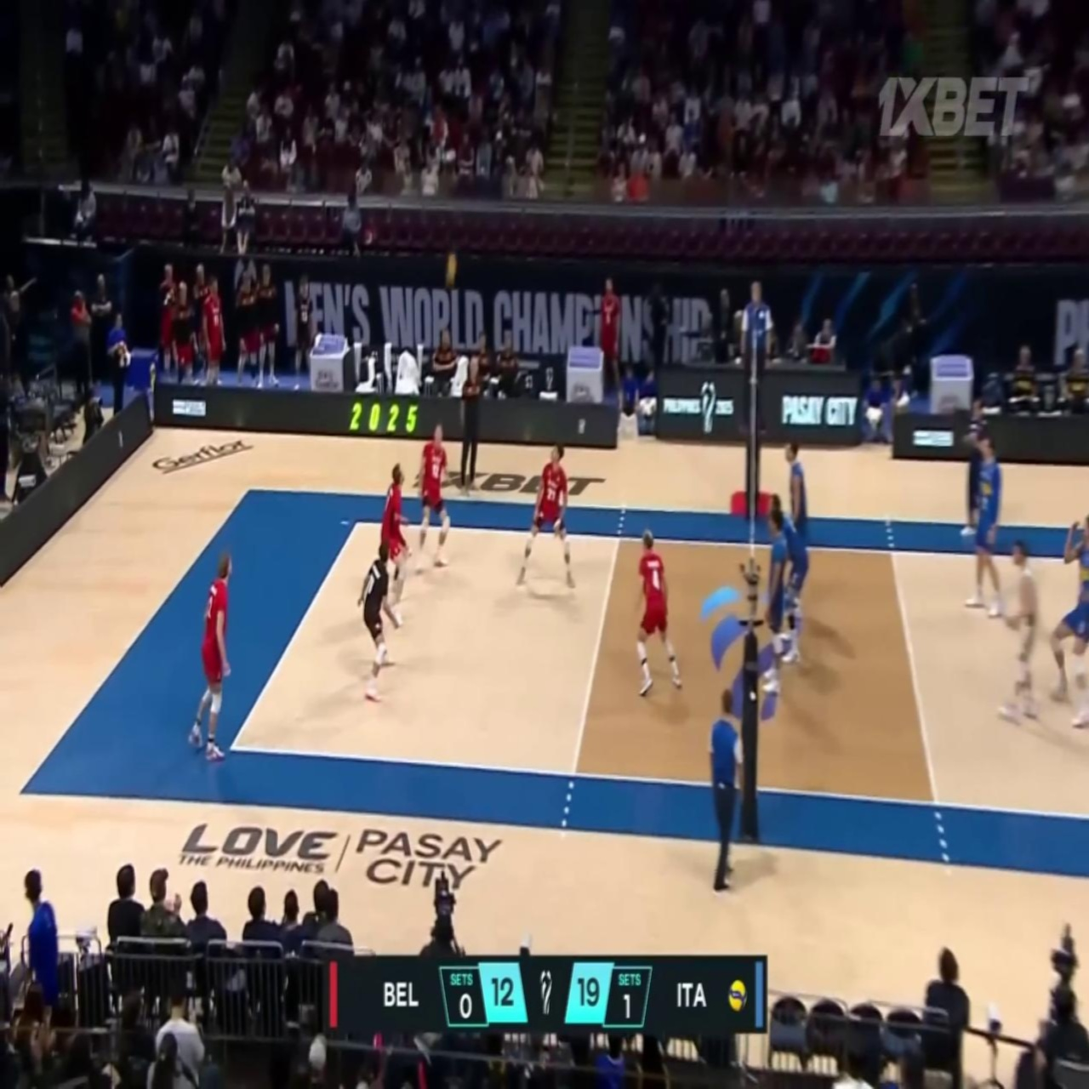ball: (444, 253, 455, 287)
